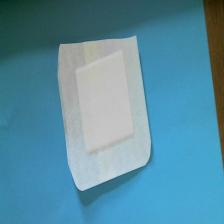Cut: (56, 34, 157, 204)
